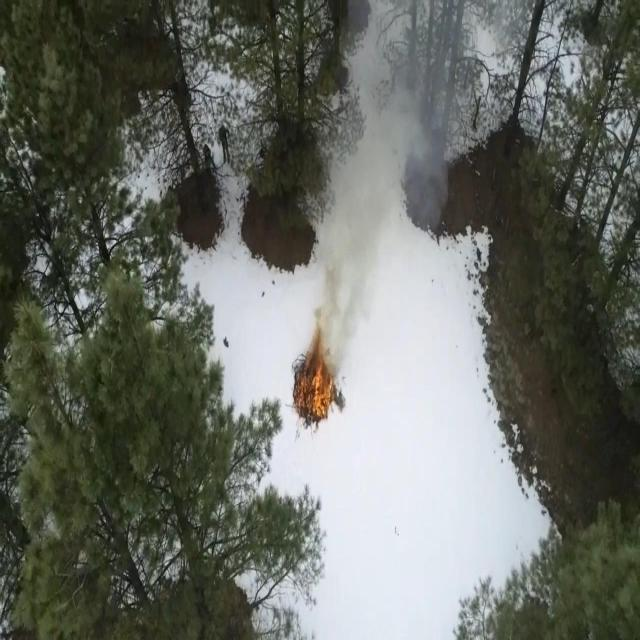Fire: (301, 351, 340, 428)
Smoke: (300, 0, 484, 345)
